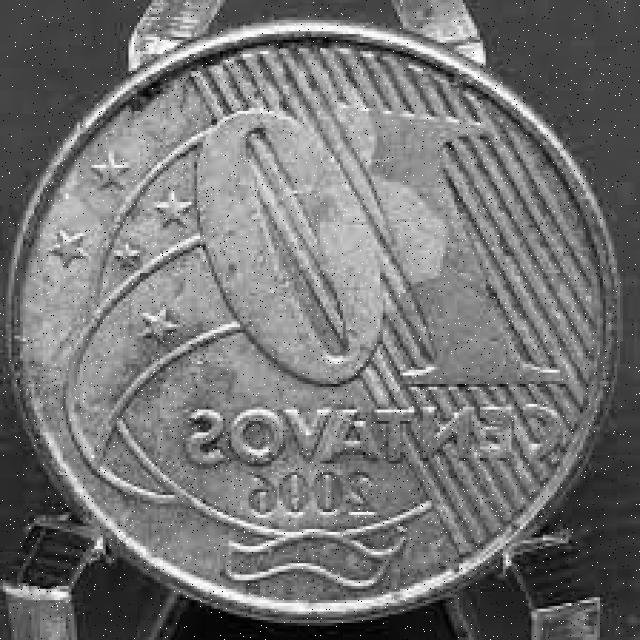10 cent: (19, 39, 599, 603)
